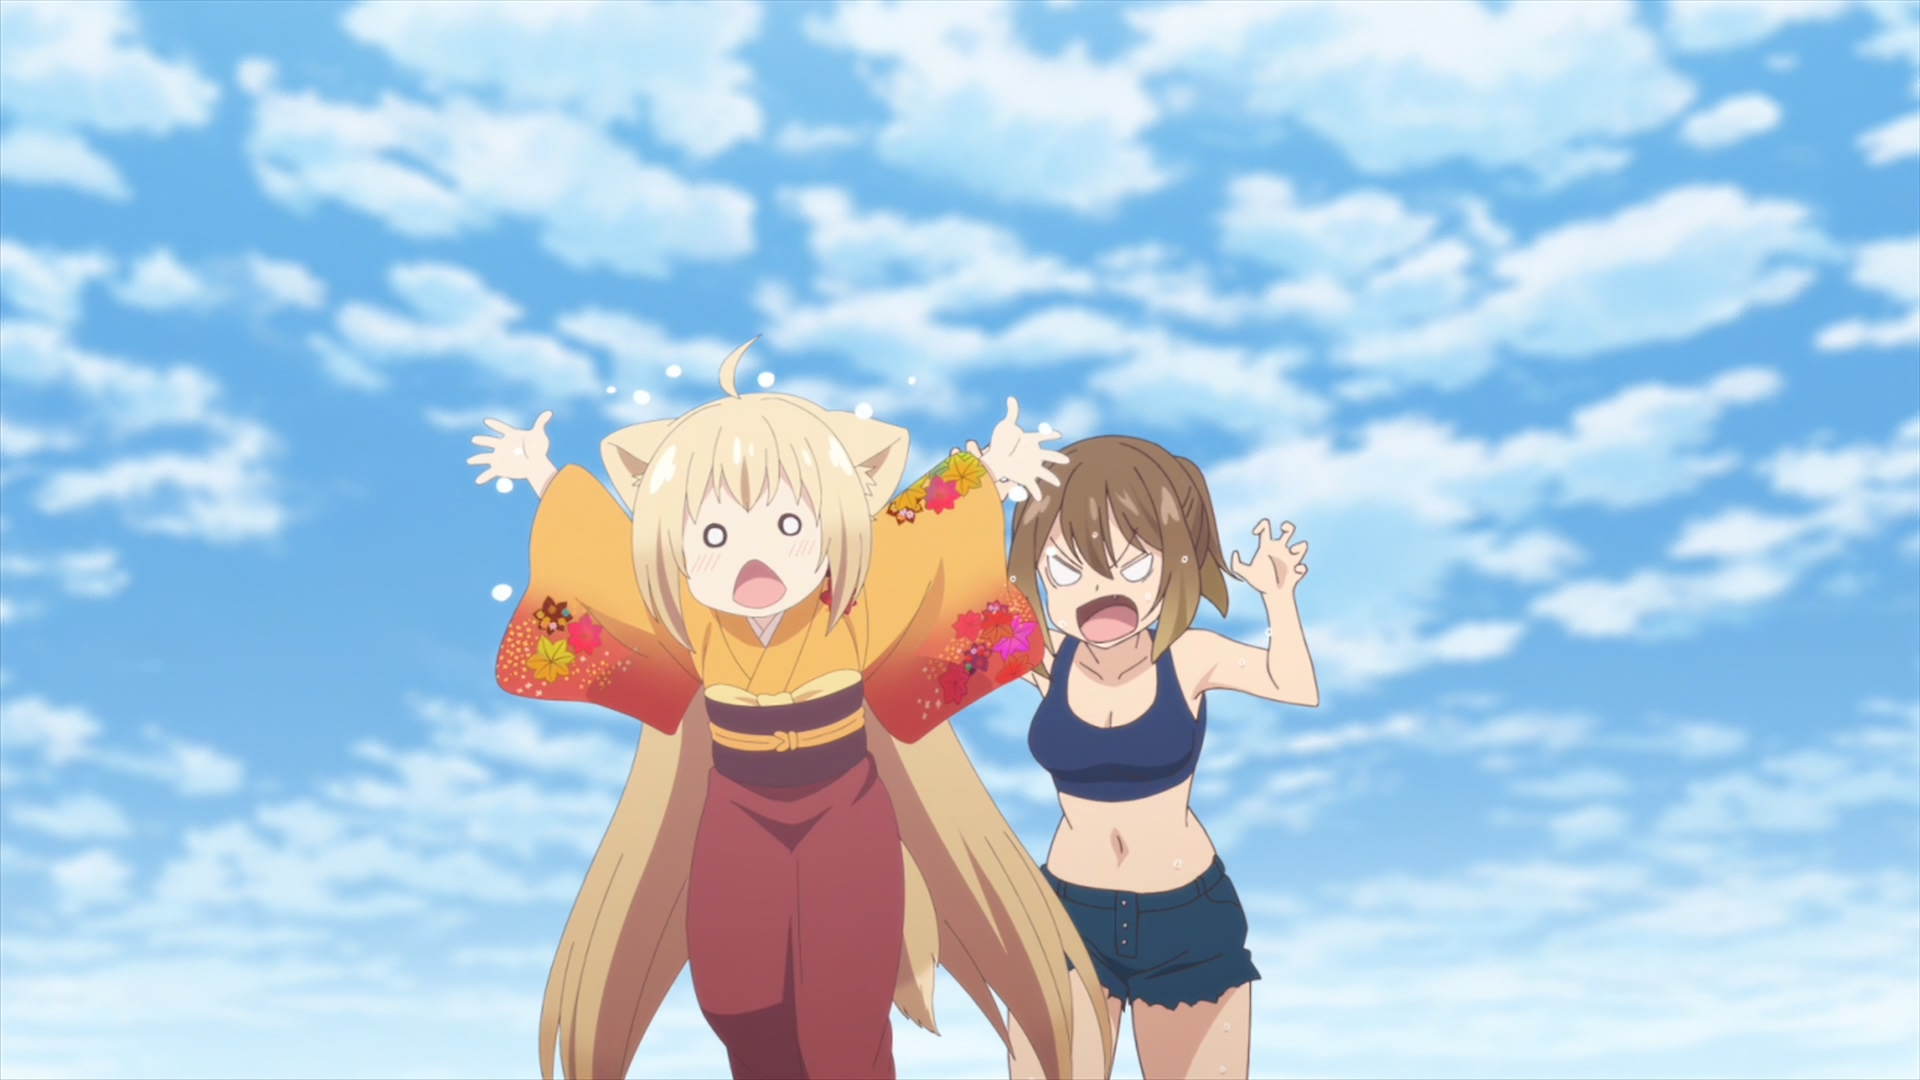其他: (1007, 434, 1317, 1080)
柚: (467, 334, 1113, 1080)
